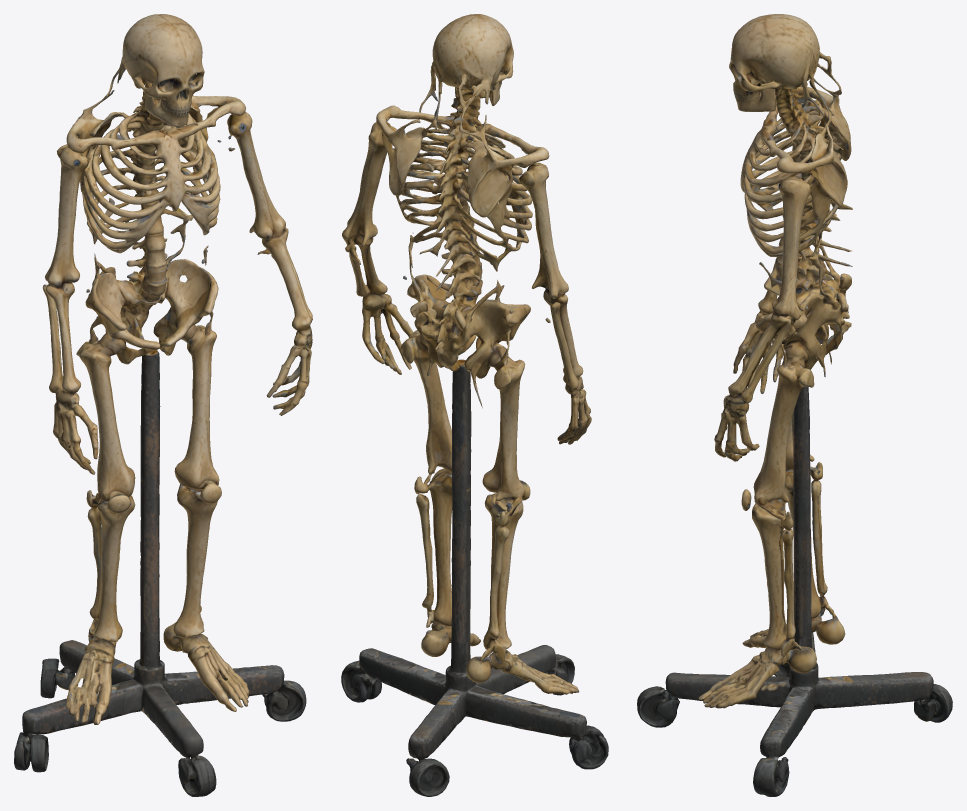
The model's file is Skeleton.fbx.
3 renders of one model, left to right at view 1: azimuth 30°, elevation 25°; view 2: azimuth 150°, elevation 25°; view 3: azimuth 270°, elevation 25°, orthographic. The views are drawn at different scales.
Visible parts, largest first — view 1: texture_mapping; view 2: texture_mapping; view 3: texture_mapping.
Boxes of the visible parts, x1,y1,x2,y2 form: texture_mapping: [14, 14, 312, 796]; texture_mapping: [341, 14, 608, 796]; texture_mapping: [637, 14, 952, 796].
Bounding box in the file's own units: 0.4042 × 0.3976 × 1.
1 material, 1 textured.
